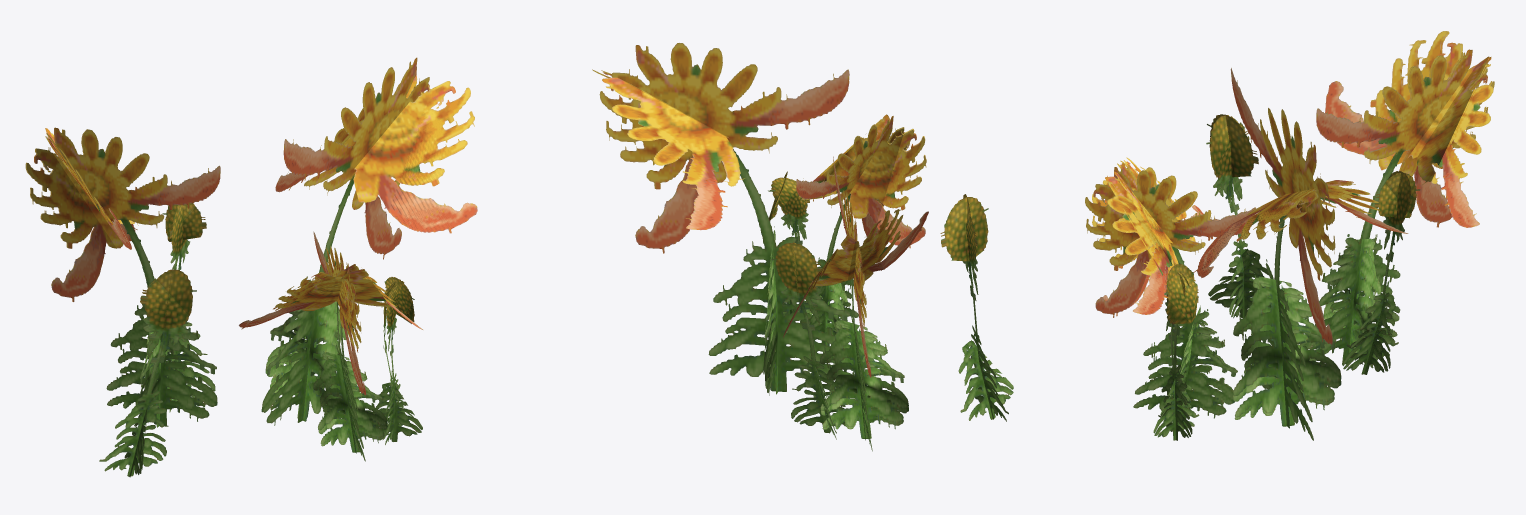
Rendered from plant_lobbynew02_zhiwu_hua0004.FBX.
The picture shows the model from 3 angles, left to right: view 1: azimuth 30°, elevation 25°; view 2: azimuth 150°, elevation 25°; view 3: azimuth 270°, elevation 25°; orthographic projection. The views are drawn at different scales.
Visible parts, largest first — view 1: plant_lobbynew02_zhiwu_hua0004; view 2: plant_lobbynew02_zhiwu_hua0004; view 3: plant_lobbynew02_zhiwu_hua0004.
Part boxes in pixels (x1,y1,x2,y2): plant_lobbynew02_zhiwu_hua0004: (25, 57, 477, 477); plant_lobbynew02_zhiwu_hua0004: (592, 43, 1013, 451); plant_lobbynew02_zhiwu_hua0004: (1085, 31, 1494, 440).
Size of the model in its own units: 115 by 102 by 93.78.
